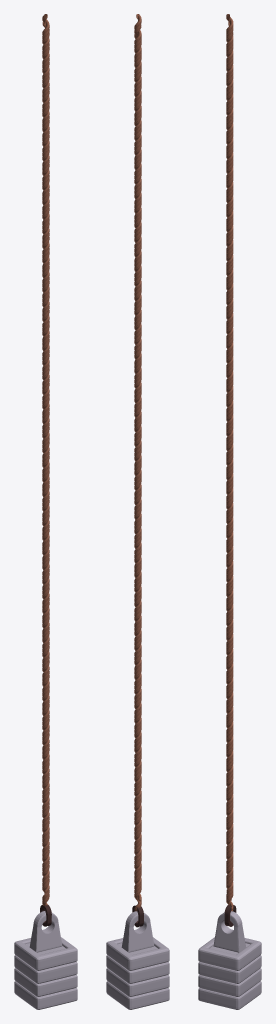
The model's file is DRIVING2.glb.
3 renders of one model, left to right at view 1: azimuth 30°, elevation 25°; view 2: azimuth 210°, elevation 25°; view 3: azimuth 330°, elevation 25°, orthographic.
Parts seen in each view (by area): view 1: Cylinder.002, Cube.003, Cylinder.001, Cube.001, Cube.002, Cube; view 2: Cylinder.002, Cube.003, Cylinder.001, Cube.001, Cube, Cube.002; view 3: Cylinder.002, Cube.003, Cylinder.001, Cube.001, Cube.002, Cube.
Boxes of the visible parts, x1,y1,x2,y2 form: Cylinder.002: (42,14,49,905); Cube.003: (14,937,77,970); Cylinder.001: (29,911,62,952); Cube.001: (14,968,77,996); Cube.002: (14,955,77,983); Cube: (14,981,77,1009); Cylinder.002: (134,14,141,911); Cube.003: (106,937,169,970); Cylinder.001: (121,911,154,952); Cube.001: (106,968,169,996); Cube: (106,981,169,1009); Cube.002: (106,955,169,983); Cylinder.002: (226,14,233,911); Cube.003: (198,937,261,970); Cylinder.001: (213,911,246,952); Cube.001: (198,968,261,996); Cube.002: (198,955,261,983); Cube: (198,981,261,1009).
Bounding box in the file's own units: 0.6146 × 13.88 × 0.6146.
